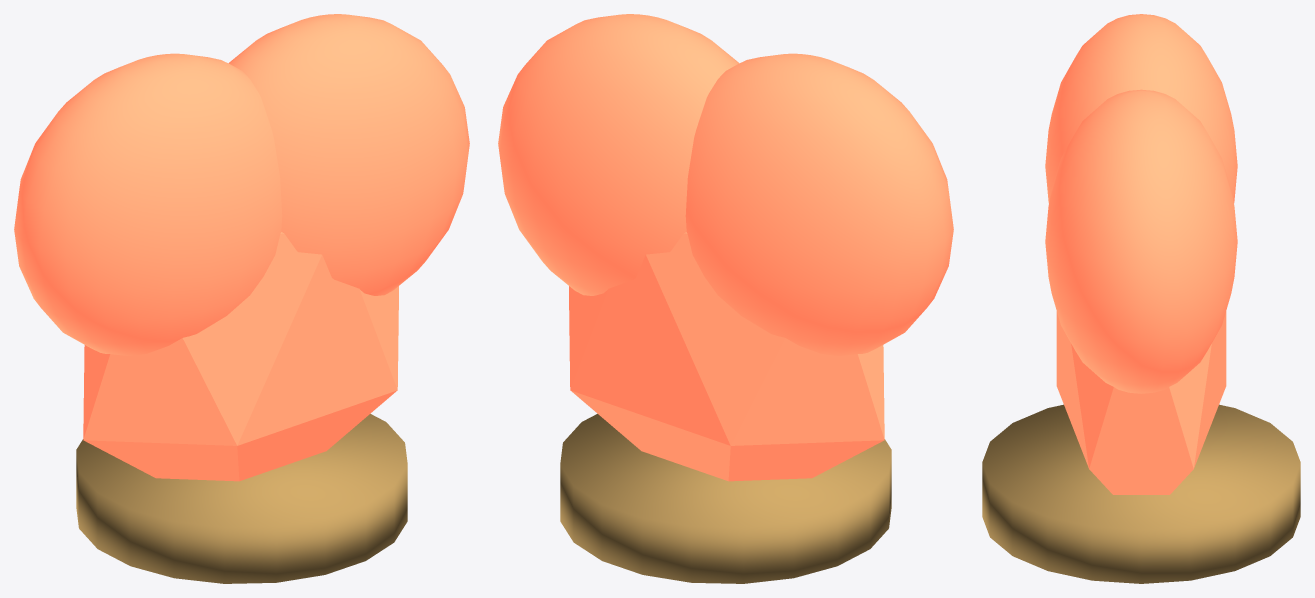
File: relic-abyssHeart.glb
The picture shows the model from 3 angles, left to right: view 1: azimuth 30°, elevation 25°; view 2: azimuth 150°, elevation 25°; view 3: azimuth 270°, elevation 25°; orthographic projection. The views are drawn at different scales.
Visible parts, largest first — view 1: relic-abyssHeart / Lamp | coral red, relic-abyssHeart / Brass | machined champagne; view 2: relic-abyssHeart / Lamp | coral red, relic-abyssHeart / Brass | machined champagne; view 3: relic-abyssHeart / Lamp | coral red, relic-abyssHeart / Brass | machined champagne.
Part boxes in pixels (x1,y1,x2,y2): relic-abyssHeart / Lamp | coral red: (14,14,469,481); relic-abyssHeart / Brass | machined champagne: (76,414,407,583); relic-abyssHeart / Lamp | coral red: (498,14,953,481); relic-abyssHeart / Brass | machined champagne: (560,414,891,583); relic-abyssHeart / Lamp | coral red: (1045,14,1237,494); relic-abyssHeart / Brass | machined champagne: (982,404,1300,583).
Bounding box in the file's own units: 1.46 × 1.53 × 0.96.
